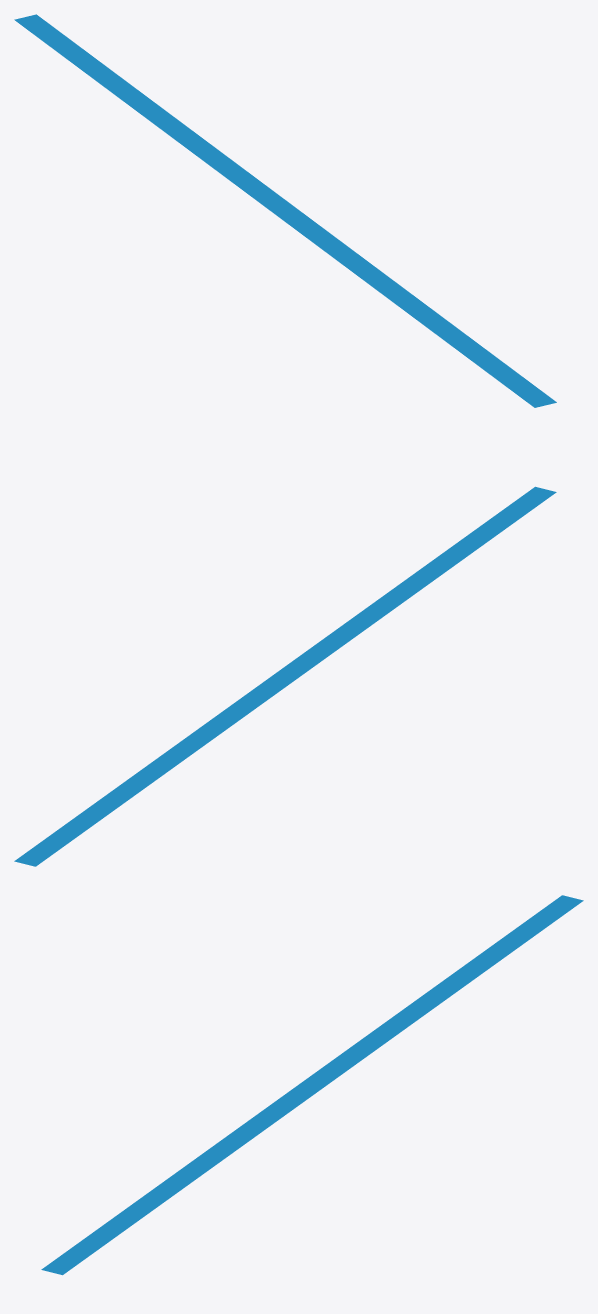
The model's file is guide.glb.
The picture shows the model from 3 angles, top to bottom: view 1: azimuth 30°, elevation 25°; view 2: azimuth 150°, elevation 25°; view 3: azimuth 330°, elevation 25°; orthographic projection. The views are drawn at different scales.
Visible parts, largest first — view 1: static; view 2: static; view 3: static.
Boxes of the visible parts, bbox=[...] form: static: bbox=[14, 14, 556, 407]; static: bbox=[14, 486, 556, 866]; static: bbox=[41, 895, 583, 1275].
Bounding box in the file's own units: 1 × 0 × 14.
